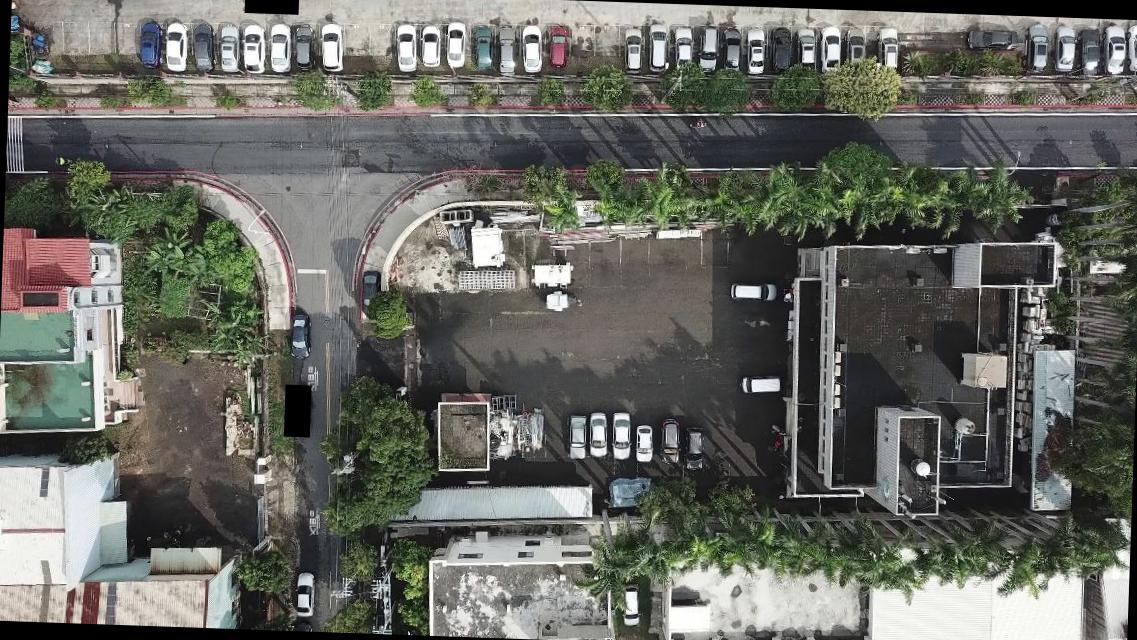vehicle: (1020, 26, 1050, 74), (318, 22, 344, 74), (607, 408, 632, 462), (1100, 27, 1126, 78), (216, 23, 241, 74), (288, 310, 312, 362), (138, 23, 164, 71), (190, 22, 214, 74), (644, 22, 668, 74), (394, 20, 417, 74), (162, 21, 186, 72), (656, 416, 682, 463), (242, 26, 267, 74), (518, 24, 542, 74), (682, 424, 706, 473), (562, 418, 588, 462), (967, 29, 1016, 52), (769, 26, 792, 74), (1051, 28, 1076, 72), (268, 22, 290, 72), (696, 25, 718, 75), (494, 26, 516, 76), (1076, 30, 1100, 74), (292, 24, 314, 72), (874, 28, 898, 72), (820, 26, 842, 74), (444, 22, 466, 70), (745, 27, 766, 77), (622, 27, 644, 74), (472, 26, 495, 70), (359, 270, 380, 318), (673, 28, 694, 76), (794, 27, 816, 72), (294, 572, 316, 616), (738, 376, 782, 398), (728, 282, 776, 302), (547, 27, 570, 68), (720, 27, 740, 74), (588, 412, 607, 461), (420, 24, 441, 68), (846, 26, 866, 72), (621, 584, 640, 628), (633, 424, 652, 464), (1124, 24, 1136, 75)
